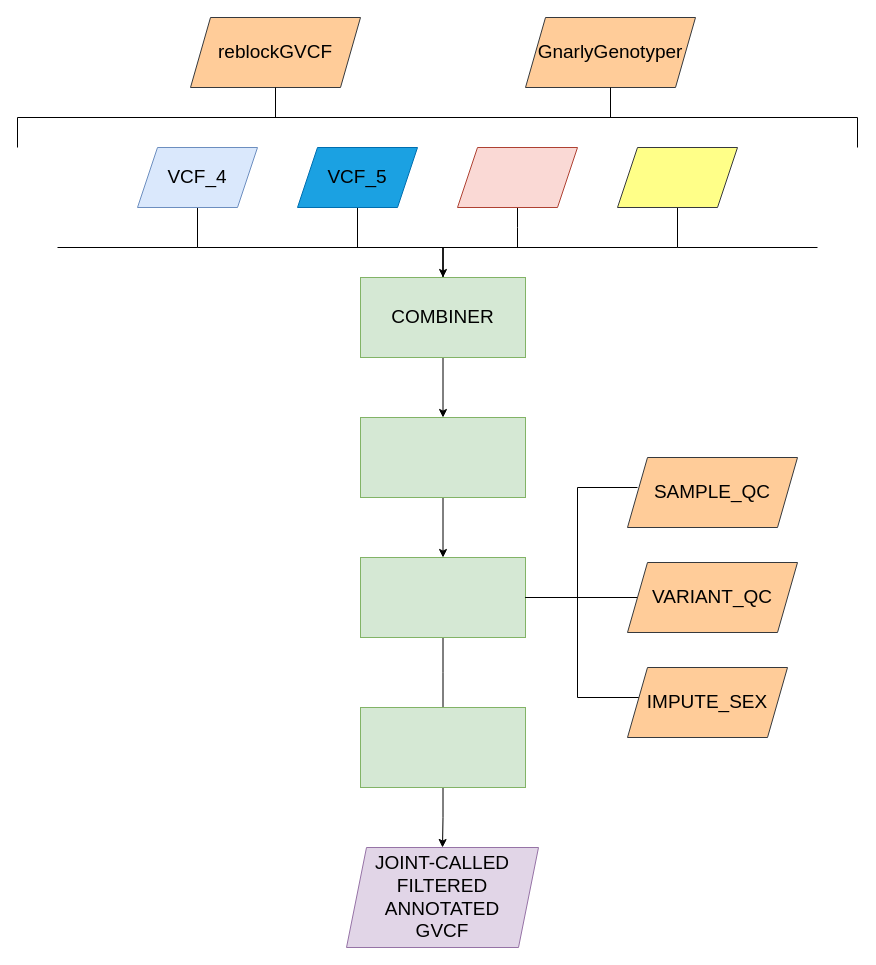
Image size: 876x965. Some labels were removed from this diagram. The centre of each missing label's shape, as x and y in pixels:
QC: [443,597]
VCF_6: [517,177]
VCF_7: [677,177]
VEP: [443,747]
VQSR: [443,457]
